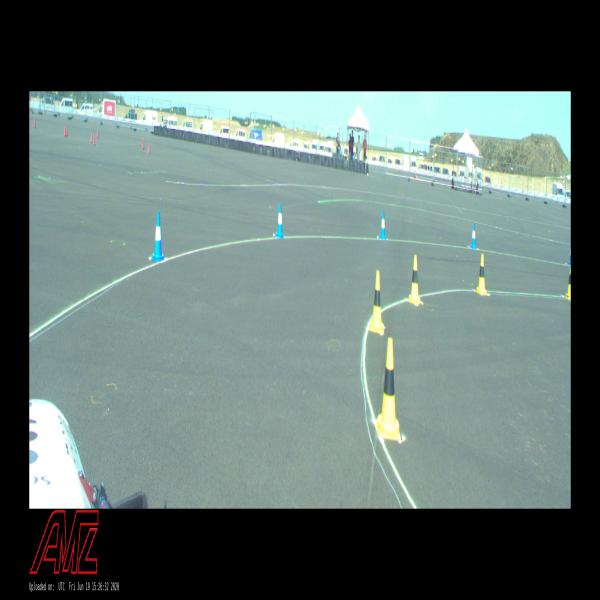blue_cone: (151, 211, 165, 262), (274, 204, 284, 238), (378, 211, 386, 240), (470, 224, 477, 249), (568, 248, 571, 265)
unknown_cone: (93, 134, 96, 146), (142, 140, 145, 150), (148, 142, 150, 153), (66, 126, 68, 136), (64, 126, 66, 136), (34, 119, 36, 128), (97, 129, 99, 138), (91, 132, 92, 142)
yellow_cone: (375, 338, 401, 440), (369, 270, 385, 334), (408, 255, 421, 306), (475, 254, 488, 295), (566, 265, 570, 299)
